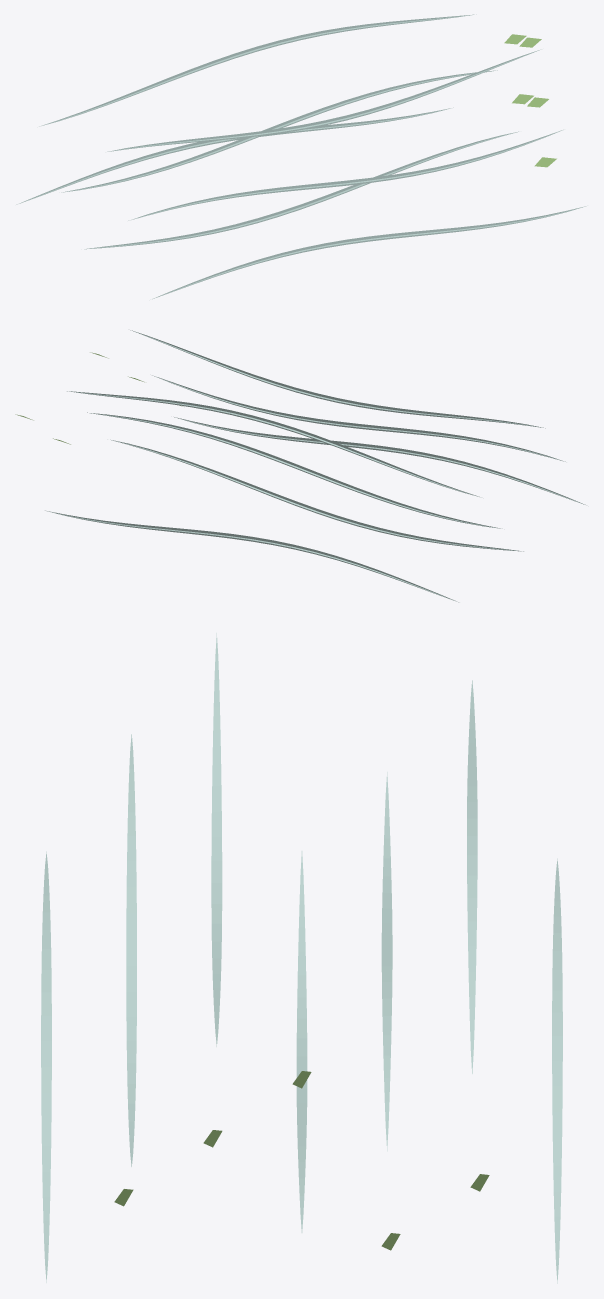
File: FX_Light_Wind.fbx
The picture shows the model from 3 angles, top to bottom: view 1: azimuth 30°, elevation 25°; view 2: azimuth 150°, elevation 25°; view 3: azimuth 270°, elevation 25°; orthographic projection. The views are drawn at different scales.
Visible parts, largest first — view 1: Wind_Streaks_Animated; view 2: Wind_Streaks_Animated; view 3: Wind_Streaks_Animated.
Part boxes in pixels (box(x1,y1,x2,y2)): Wind_Streaks_Animated: box(16, 14, 586, 299); Wind_Streaks_Animated: box(15, 330, 586, 602); Wind_Streaks_Animated: box(41, 633, 562, 1283).
Size of the model in its own units: 279 by 72.64 by 135.
